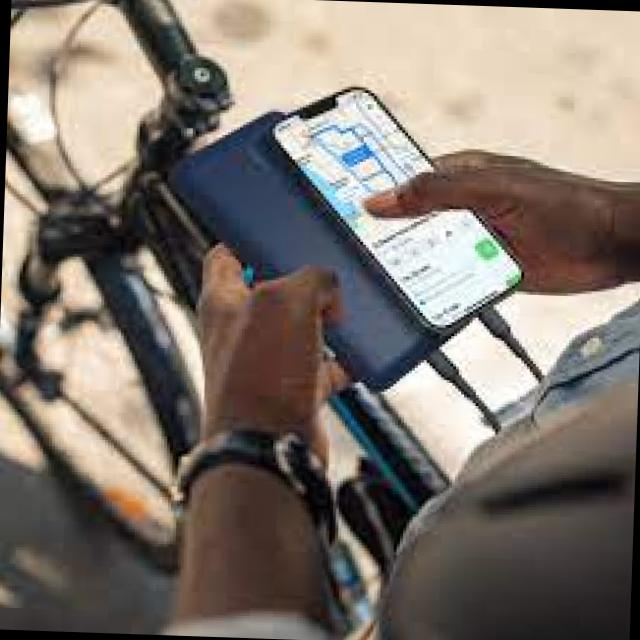portable-charger: (177, 104, 466, 388)
